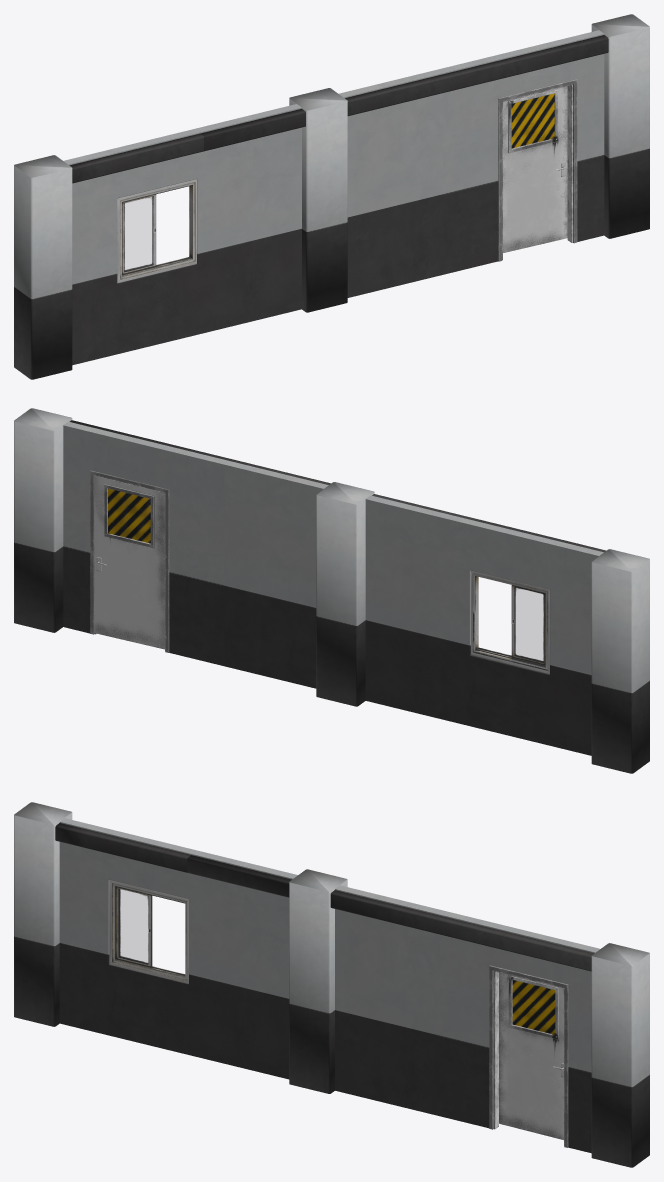
The model's file is industrial_horror_wall__game_environment.glb.
3 renders of one model, top to bottom at view 1: azimuth 30°, elevation 25°; view 2: azimuth 150°, elevation 25°; view 3: azimuth 330°, elevation 25°, orthographic.
Visible parts, largest first — view 1: SM_Wall_Window_10, SM_Wall_Door_9, SM_Wall_Corner_8, SM_DoorFrame_Post_2, SM_DoorFrame_Post.001_3, SM_DoorFrame_Post.002_4, SM_DoorFrame_Jamb_1, SM_DoorFrame_Trim.001_6, SM_DoorLeaf_7, SM_DoorFrame_Trim_5, SM_WindowGlass_01_12, SM_WindowFrame_Outer_11; view 2: SM_Wall_Window_10, SM_Wall_Door_9, SM_Wall_Corner_8, SM_DoorFrame_Post_2, SM_DoorFrame_Jamb_1, SM_DoorFrame_Post.001_3, SM_DoorFrame_Post.002_4, SM_WindowGlass_01.001_13, SM_WindowFrame_Outer_11, SM_DoorLeaf_7, SM_DoorFrame_Trim.001_6; view 3: SM_Wall_Window_10, SM_Wall_Door_9, SM_Wall_Corner_8, SM_DoorFrame_Post.001_3, SM_DoorFrame_Post_2, SM_DoorFrame_Post.002_4, SM_DoorFrame_Jamb_1, SM_DoorFrame_Trim.001_6, SM_DoorLeaf_7, SM_WindowGlass_01_12, SM_DoorFrame_Trim_5, SM_WindowFrame_Outer_11.
Part boxes in pixels (bbox=[...]): SM_Wall_Window_10: bbox=[64, 115, 253, 365]; SM_Wall_Door_9: bbox=[249, 69, 442, 320]; SM_Wall_Corner_8: bbox=[438, 30, 604, 274]; SM_DoorFrame_Post_2: bbox=[14, 155, 72, 379]; SM_DoorFrame_Post.001_3: bbox=[591, 14, 649, 238]; SM_DoorFrame_Post.002_4: bbox=[289, 88, 347, 312]; SM_DoorFrame_Jamb_1: bbox=[503, 86, 567, 252]; SM_DoorFrame_Trim.001_6: bbox=[200, 35, 608, 151]; SM_DoorLeaf_7: bbox=[498, 79, 577, 261]; SM_DoorFrame_Trim_5: bbox=[69, 133, 203, 183]; SM_WindowGlass_01_12: bbox=[122, 194, 156, 274]; SM_WindowFrame_Outer_11: bbox=[117, 179, 196, 283]; SM_Wall_Window_10: bbox=[413, 507, 603, 755]; SM_Wall_Door_9: bbox=[224, 461, 418, 712]; SM_Wall_Corner_8: bbox=[63, 421, 228, 666]; SM_DoorFrame_Post_2: bbox=[591, 549, 649, 773]; SM_DoorFrame_Jamb_1: bbox=[94, 475, 165, 649]; SM_DoorFrame_Post.001_3: bbox=[14, 408, 72, 632]; SM_DoorFrame_Post.002_4: bbox=[316, 482, 374, 706]; SM_WindowGlass_01.001_13: bbox=[511, 585, 545, 665]; SM_WindowFrame_Outer_11: bbox=[471, 570, 549, 674]; SM_DoorLeaf_7: bbox=[90, 470, 169, 652]; SM_DoorFrame_Trim.001_6: bbox=[69, 420, 475, 520]; SM_Wall_Window_10: bbox=[59, 818, 249, 1068]; SM_Wall_Door_9: bbox=[244, 863, 438, 1114]; SM_Wall_Corner_8: bbox=[434, 909, 599, 1153]; SM_DoorFrame_Post.001_3: bbox=[591, 943, 649, 1167]; SM_DoorFrame_Post_2: bbox=[14, 802, 72, 1026]; SM_DoorFrame_Post.002_4: bbox=[289, 869, 347, 1093]; SM_DoorFrame_Jamb_1: bbox=[499, 972, 563, 1139]; SM_DoorFrame_Trim.001_6: bbox=[187, 855, 594, 971]; SM_DoorLeaf_7: bbox=[489, 965, 568, 1147]; SM_WindowGlass_01_12: bbox=[115, 886, 151, 967]; SM_DoorFrame_Trim_5: bbox=[55, 823, 190, 872]; SM_WindowFrame_Outer_11: bbox=[109, 880, 188, 983].
Size of the model in its own units: 7.29 by 2.27 by 0.3713.
Materials: 9 (9 with a texture image).
